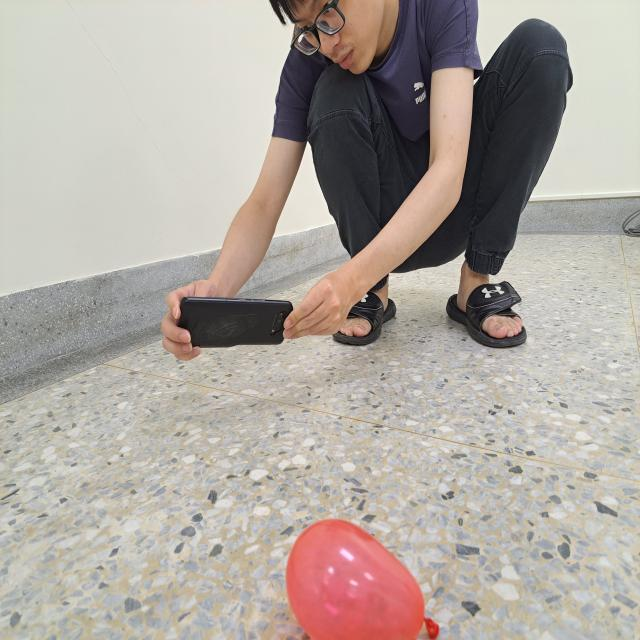red: (286, 519, 441, 640)
